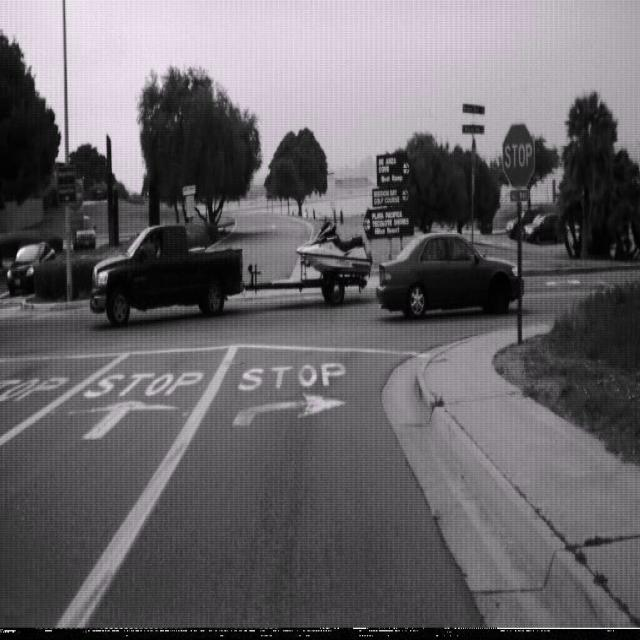stop_sign: (502, 121, 535, 190)
